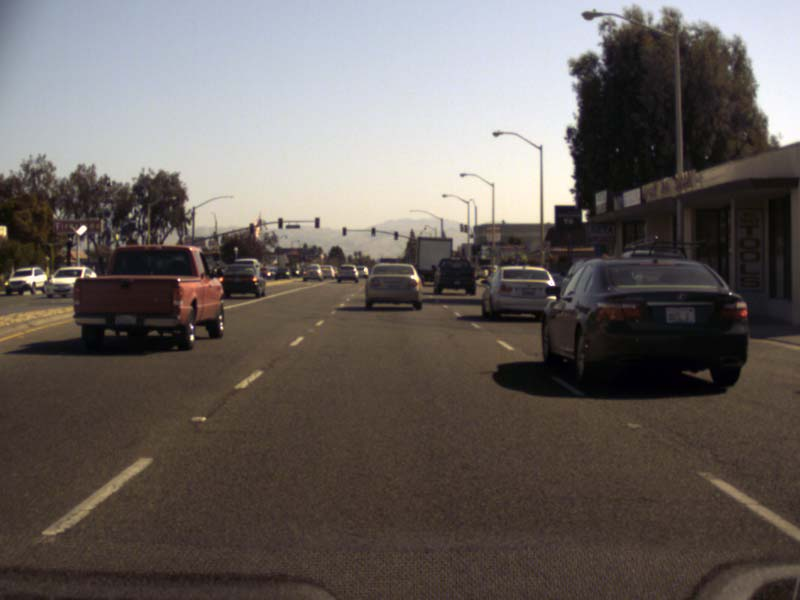Green: (342, 227, 346, 235), (371, 227, 375, 235), (394, 231, 397, 239)
